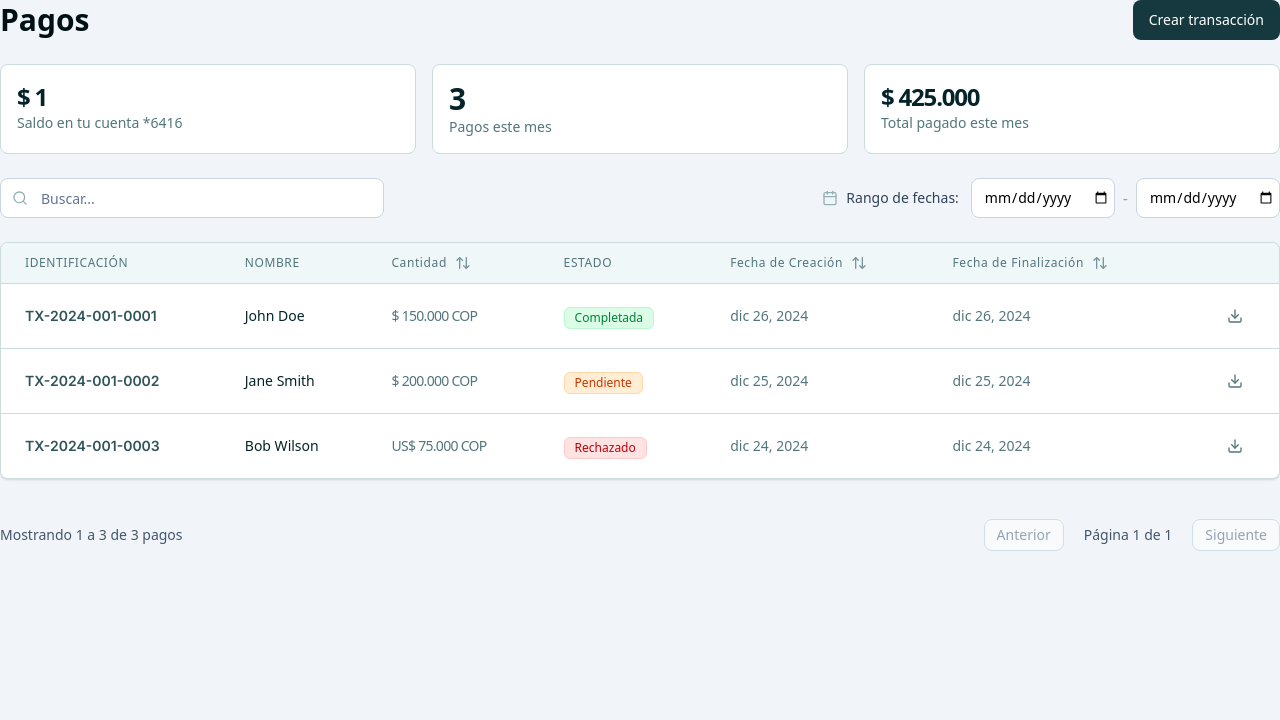
Payments Integration › should open and close create payment modal
Step 1. Click the button "Crear transacción" → (1206, 20), box [1133,0,1279,40]
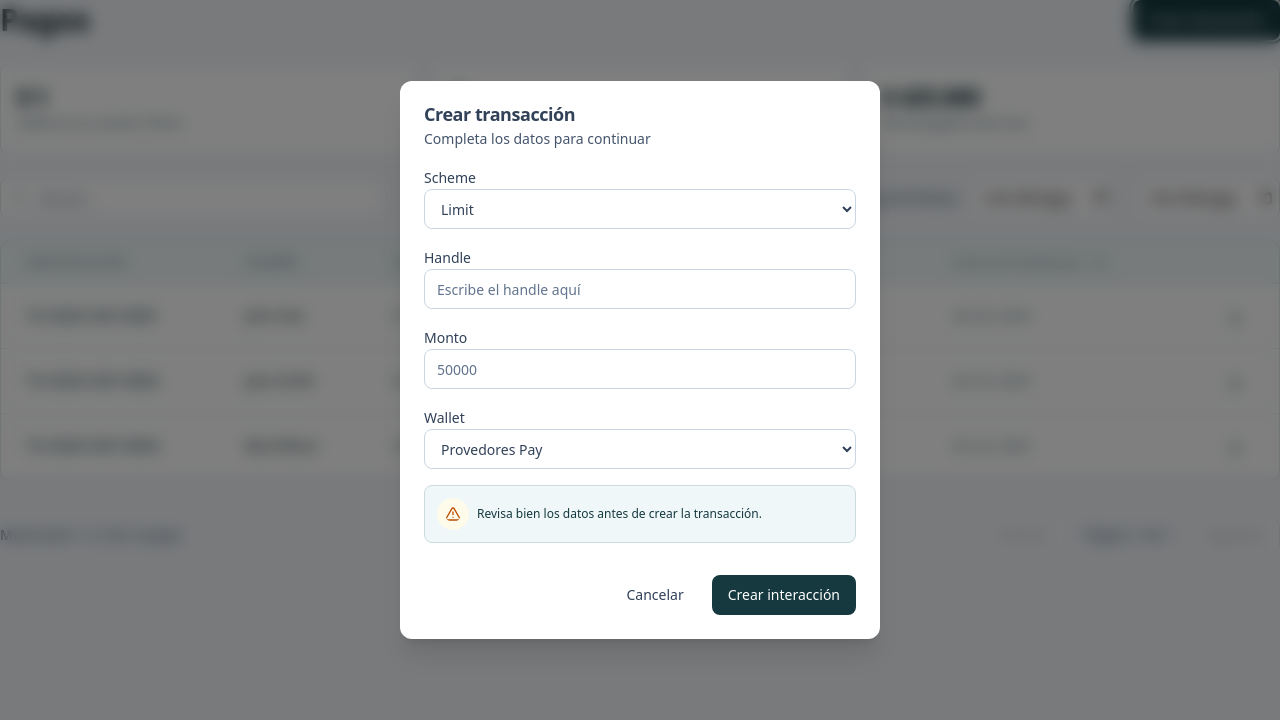
Now the text "Completa los datos para continuar" is shown, box [424,129,651,148]
Step 2. Click the button "Cancelar" → (655, 595), box [610,575,700,615]
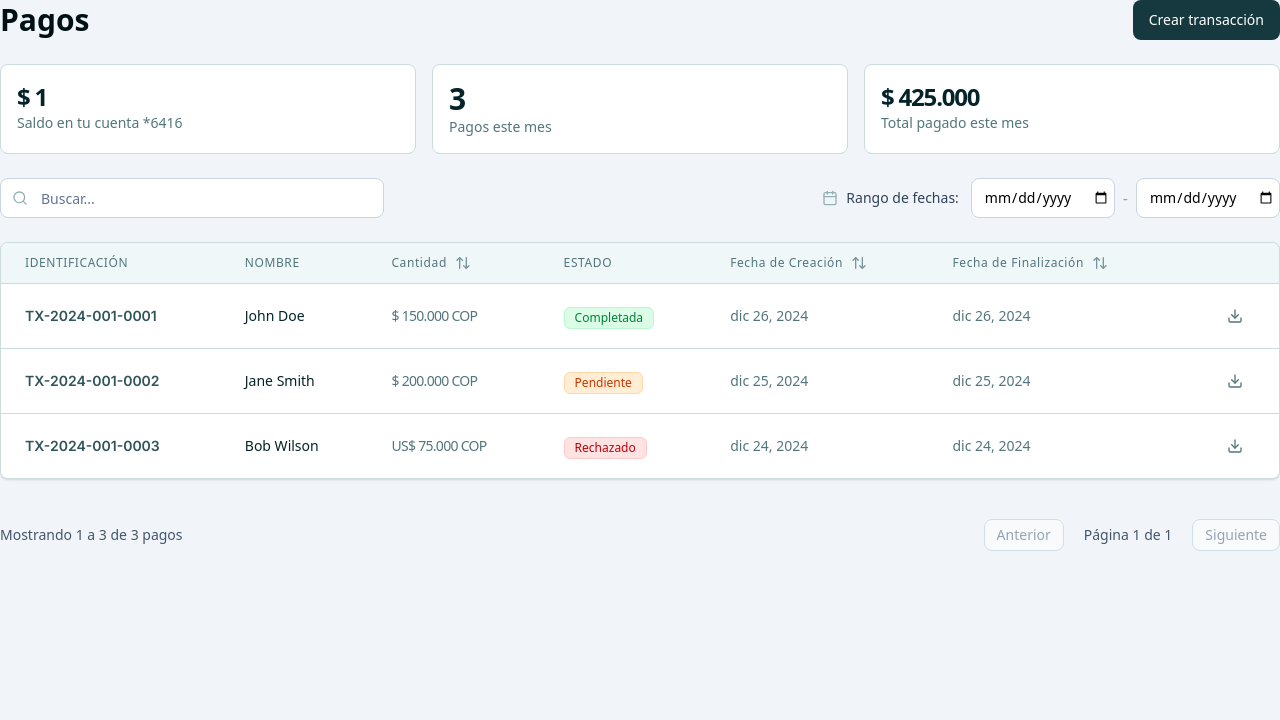
Now the text "Completa los datos para continuar" is gone
